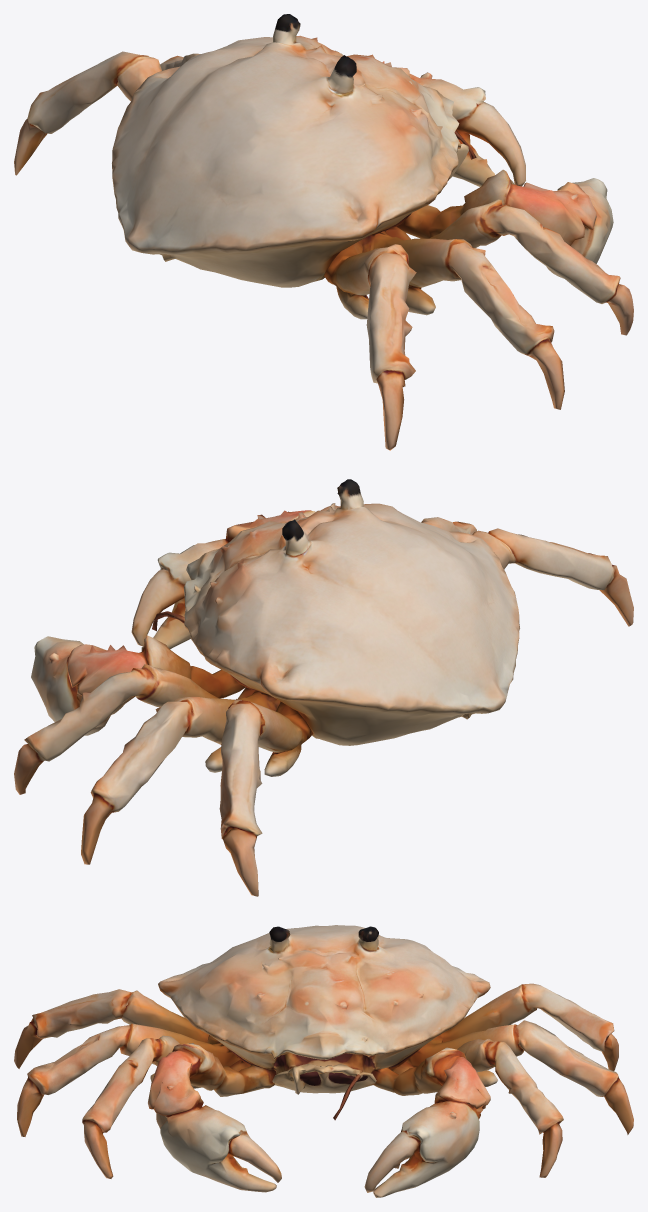
The model's file is crab.glb.
The picture shows the model from 3 angles, top to bottom: view 1: azimuth 30°, elevation 25°; view 2: azimuth 150°, elevation 25°; view 3: azimuth 270°, elevation 25°; orthographic projection. The views are drawn at different scales.
Parts seen in each view (by area): view 1: tripo_node_6fd107cc-488f-451e-86ef-2d12a91fc9e1; view 2: tripo_node_6fd107cc-488f-451e-86ef-2d12a91fc9e1; view 3: tripo_node_6fd107cc-488f-451e-86ef-2d12a91fc9e1.
Boxes of the visible parts, bbox=[...] form: tripo_node_6fd107cc-488f-451e-86ef-2d12a91fc9e1: bbox=[14, 14, 633, 450]; tripo_node_6fd107cc-488f-451e-86ef-2d12a91fc9e1: bbox=[14, 479, 633, 896]; tripo_node_6fd107cc-488f-451e-86ef-2d12a91fc9e1: bbox=[14, 925, 633, 1197].
Bounding box in the file's own units: 0.6241 × 0.3408 × 1.
1 material, 1 textured.
